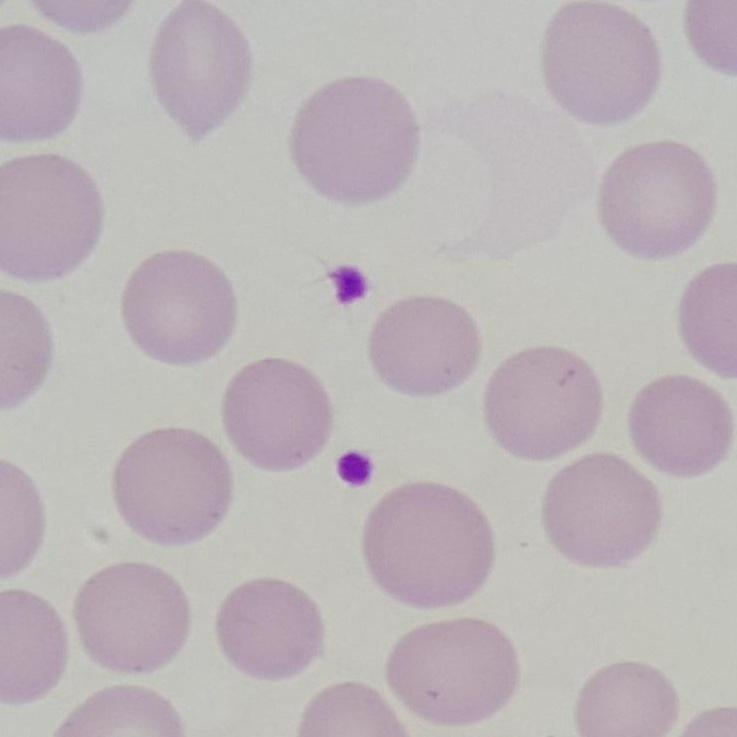Uninfected: (364, 483, 493, 608), (291, 76, 418, 202), (597, 143, 721, 259), (540, 3, 659, 123), (149, 3, 252, 139), (117, 426, 234, 545), (386, 617, 516, 723), (71, 559, 190, 674), (0, 156, 107, 282), (540, 455, 658, 568), (487, 346, 602, 460), (123, 252, 236, 365), (223, 355, 334, 470), (214, 576, 326, 679), (369, 296, 482, 397), (629, 375, 733, 475), (0, 23, 79, 145), (0, 589, 73, 699), (577, 660, 678, 737)
